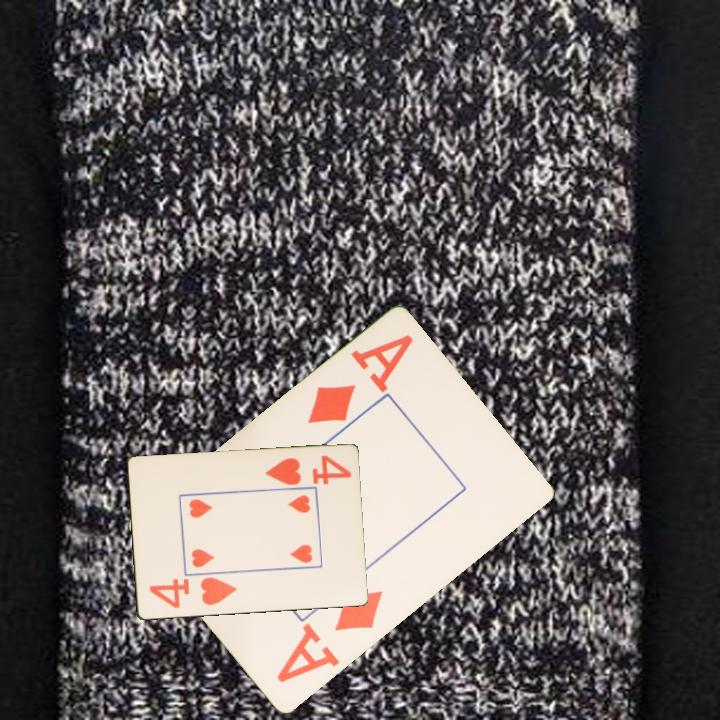4h: (146, 574, 239, 611), (261, 452, 354, 488)
Ad: (273, 587, 386, 687), (304, 331, 417, 428)
